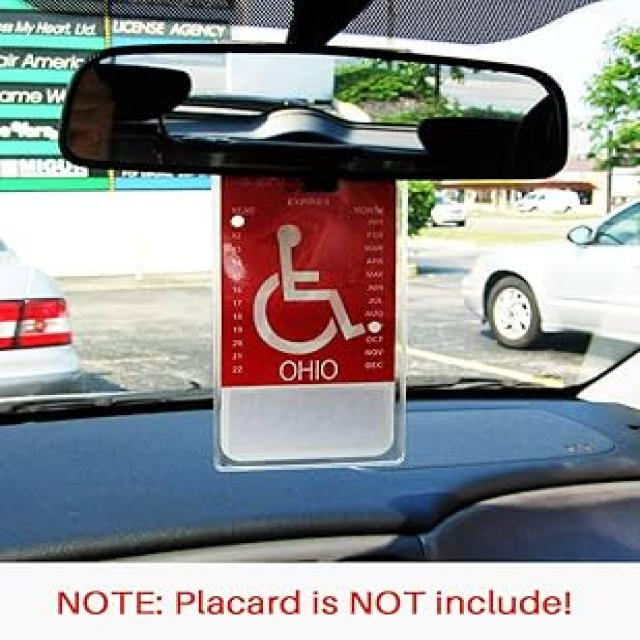car-handicap-placard: (245, 213, 382, 359)
